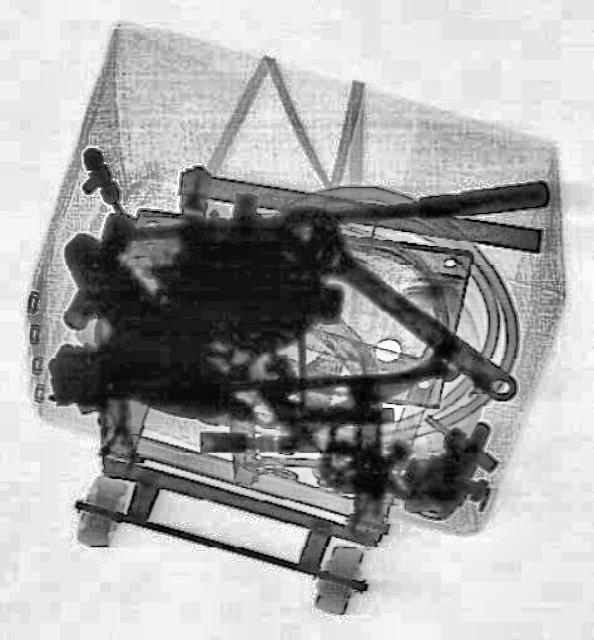Wrench: (258, 188, 534, 422)
